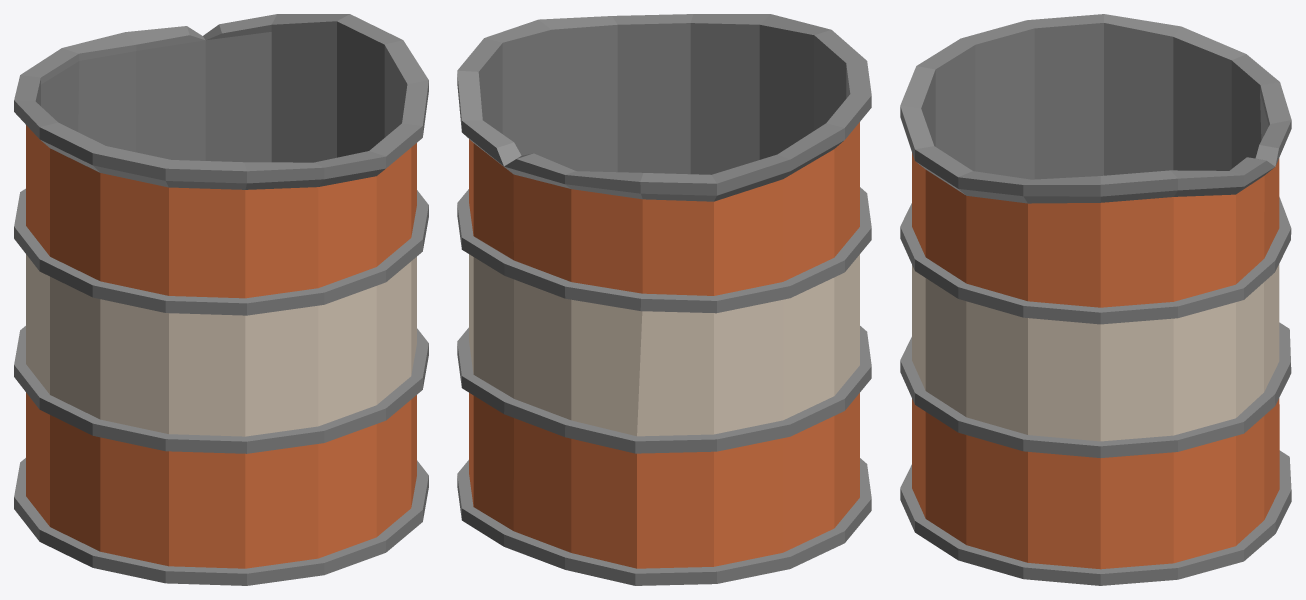
File: Barrel_4_4.fbx
3 renders of one model, left to right at view 1: azimuth 30°, elevation 25°; view 2: azimuth 150°, elevation 25°; view 3: azimuth 270°, elevation 25°, orthographic. The views are drawn at different scales.
Visible parts, largest first — view 1: Barrel_4_4; view 2: Barrel_4_4; view 3: Barrel_4_4.
Boxes of the visible parts, x1,y1,x2,y2 form: Barrel_4_4: [14, 14, 428, 585]; Barrel_4_4: [457, 14, 871, 585]; Barrel_4_4: [900, 14, 1291, 585].
Bounding box in the file's own units: 78.54 × 86 × 76.07.
